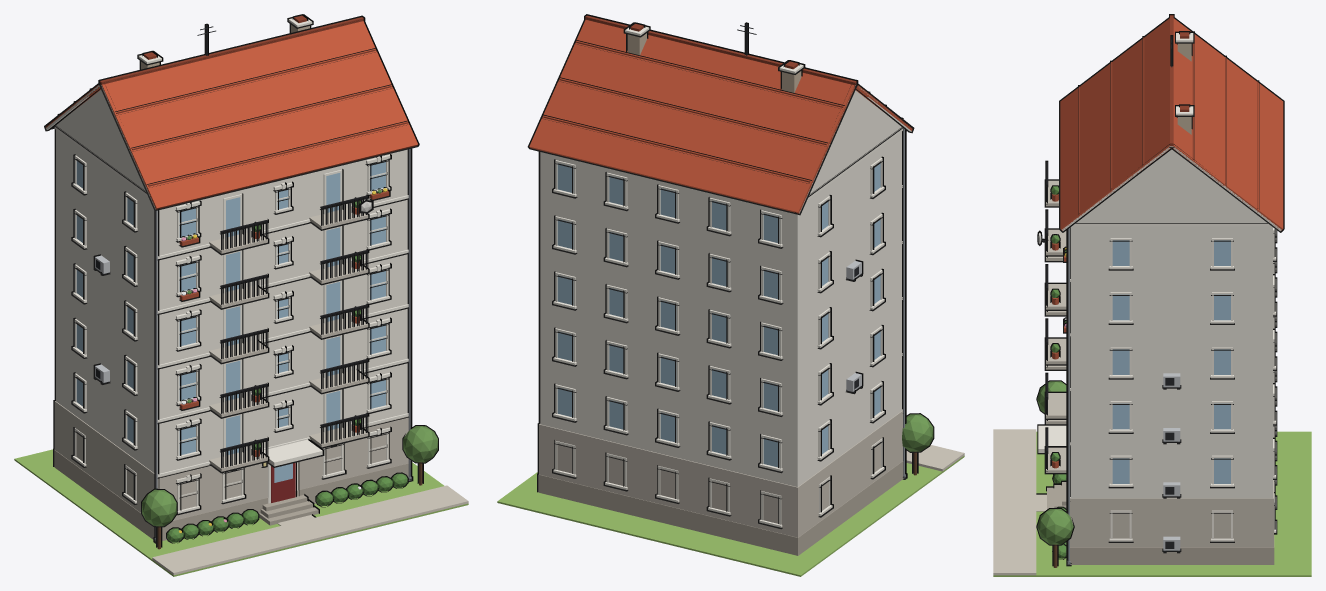
Rendered from Apartman_1_1.fbx.
3 renders of one model, left to right at view 1: azimuth 30°, elevation 25°; view 2: azimuth 150°, elevation 25°; view 3: azimuth 270°, elevation 25°, orthographic. The views are drawn at different scales.
Visible parts, largest first — view 1: Apartman_1_1; view 2: Apartman_1_1; view 3: Apartman_1_1.
Part boxes in pixels (bbox=[...]): Apartman_1_1: bbox=[14, 14, 468, 576]; Apartman_1_1: bbox=[497, 14, 964, 576]; Apartman_1_1: bbox=[993, 14, 1311, 576].
Bounding box in the file's own units: 15.86 × 23.49 × 14.84.
